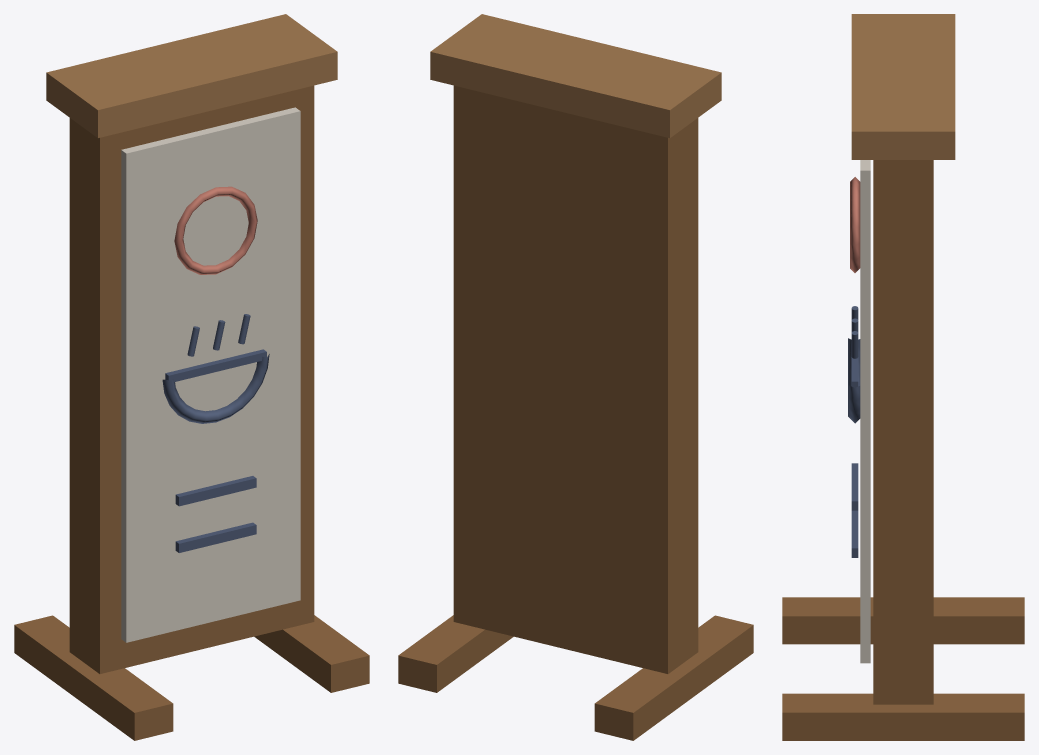
The model's file is komachi-tate-kanban.glb.
3 views of the same model, side by side, from view 1: azimuth 30°, elevation 25°; view 2: azimuth 150°, elevation 25°; view 3: azimuth 270°, elevation 25° (orthographic).
Visible parts, largest first — view 1: Standing_Sign; view 2: Standing_Sign; view 3: Standing_Sign.
Part boxes in pixels (box(x1,y1,x2,y2)): Standing_Sign: box(14, 14, 369, 740); Standing_Sign: box(398, 14, 753, 740); Standing_Sign: box(782, 14, 1024, 740).
Bounding box in the file's own units: 0.161 × 0.389 × 0.14.
